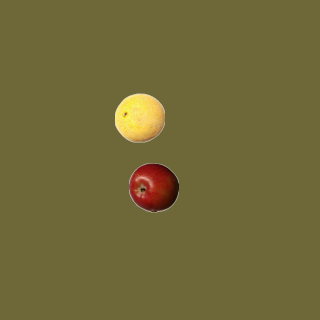Apple Braeburn: (128, 162, 178, 212)
Cantaloupe 1: (114, 92, 164, 142)
